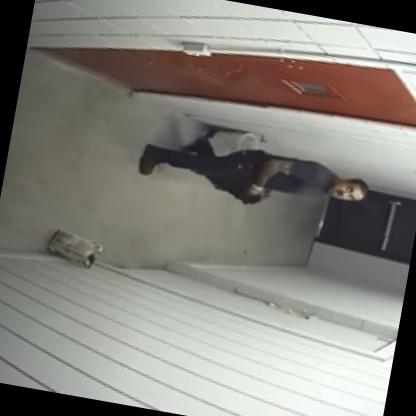Human Body: (129, 122, 377, 230)
